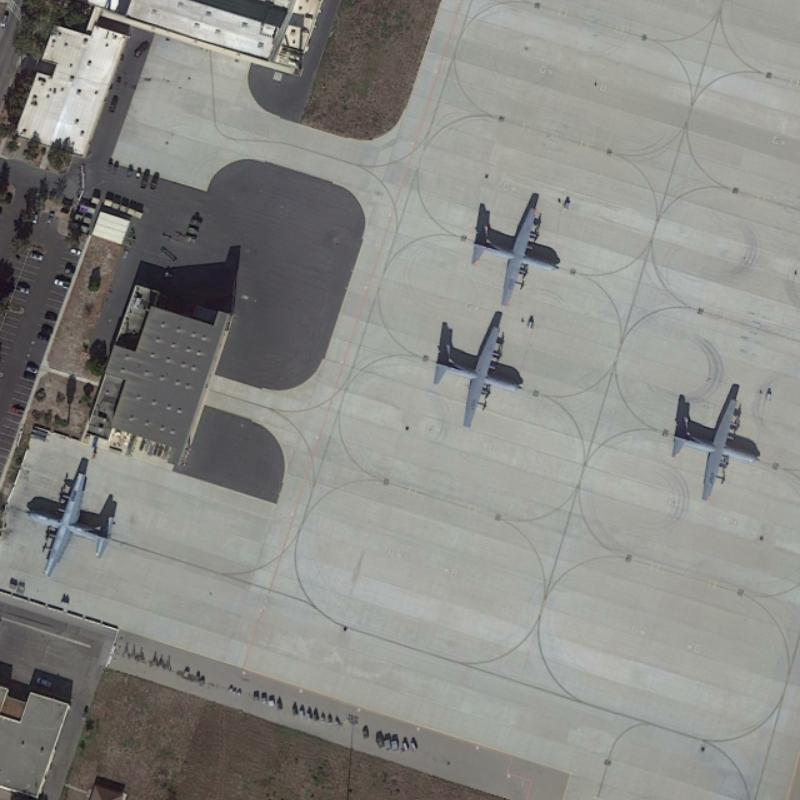A2: (664, 388, 764, 507), (20, 462, 120, 580), (428, 320, 529, 430), (466, 203, 565, 306)
